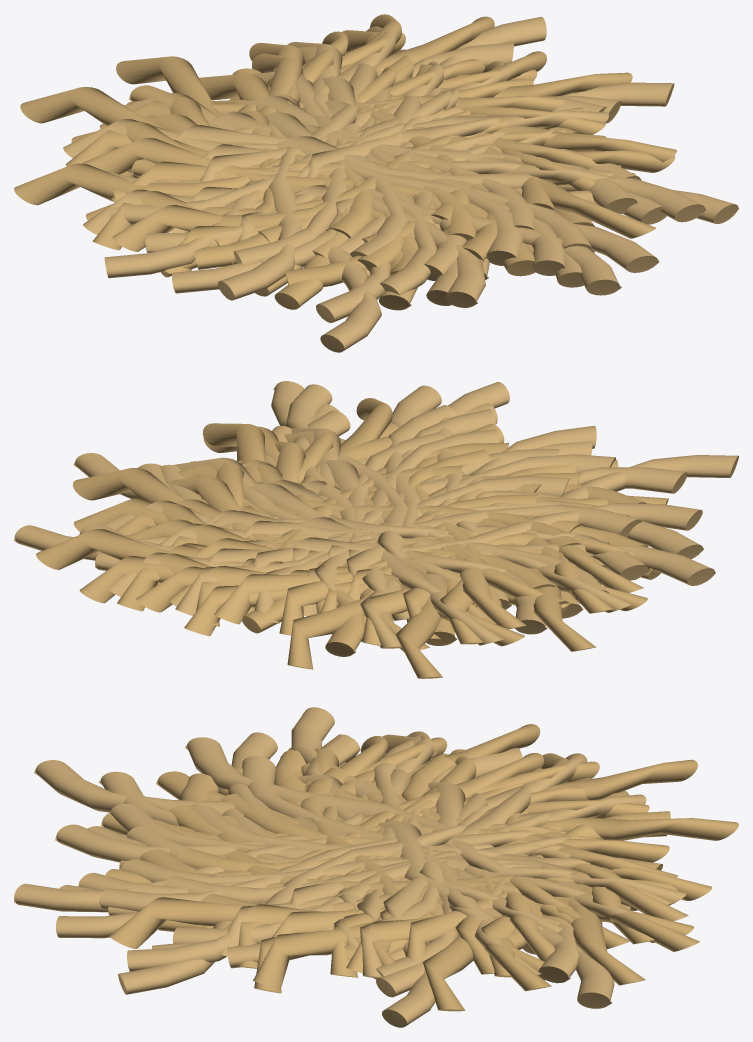
Rendered from BOILED NOODLES (5.2.2).fbx.
3 renders of one model, top to bottom at view 1: azimuth 30°, elevation 25°; view 2: azimuth 150°, elevation 25°; view 3: azimuth 270°, elevation 25°, orthographic. The views are drawn at different scales.
Parts seen in each view (by area): view 1: pasted__pCylinder1 (×38), pasted__pCylinder3 (×10), pasted__pCylinder5 (×11), pCylinder2 (×10), pasted__pCylinder2 (×10), pasted__pCylinder4 (×8); view 2: pasted__pCylinder1 (×35), pasted__pCylinder3 (×10), pasted__pCylinder5 (×10), pCylinder2 (×9), pasted__pCylinder2 (×9), pasted__pCylinder4 (×9); view 3: pasted__pCylinder1 (×36), pasted__pCylinder3 (×9), pasted__pCylinder5 (×9), pCylinder2 (×10), pasted__pCylinder2 (×9), pasted__pCylinder4 (×8).
Boxes of the visible parts, x1,y1,x2,y2 form: pasted__pCylinder1 (×38): (65, 16, 738, 352); pasted__pCylinder3 (×10): (14, 14, 677, 238); pasted__pCylinder5 (×11): (103, 63, 641, 305); pCylinder2 (×10): (83, 31, 621, 310); pasted__pCylinder2 (×10): (71, 33, 605, 309); pasted__pCylinder4 (×8): (63, 26, 611, 253); pasted__pCylinder1 (×35): (14, 381, 738, 646); pasted__pCylinder3 (×10): (36, 398, 596, 678); pasted__pCylinder5 (×10): (160, 425, 703, 634); pCylinder2 (×9): (127, 441, 643, 645); pasted__pCylinder2 (×9): (157, 433, 613, 656); pasted__pCylinder4 (×9): (104, 428, 632, 648); pasted__pCylinder1 (×36): (14, 707, 712, 1027); pasted__pCylinder3 (×9): (109, 724, 738, 1011); pasted__pCylinder5 (×9): (109, 732, 630, 979); pCylinder2 (×10): (101, 736, 688, 961); pasted__pCylinder2 (×9): (156, 737, 672, 977); pasted__pCylinder4 (×8): (213, 731, 686, 977).
Bounding box in the file's own units: 7.02 × 0.4532 × 6.95.
